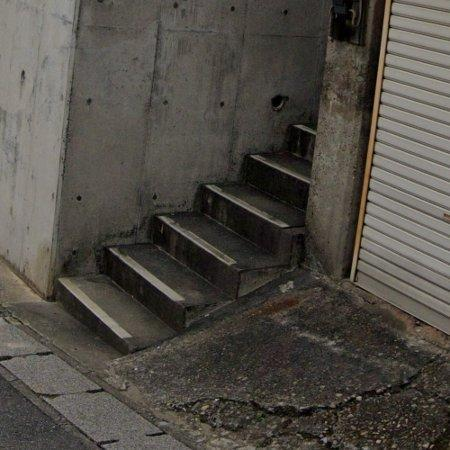stairs: (57, 125, 315, 354)
